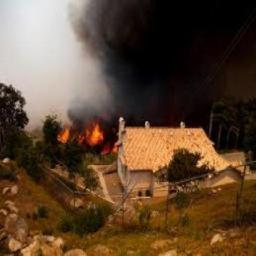Heavy smoke: (56, 0, 256, 146)
Small fire: (45, 119, 117, 149)
